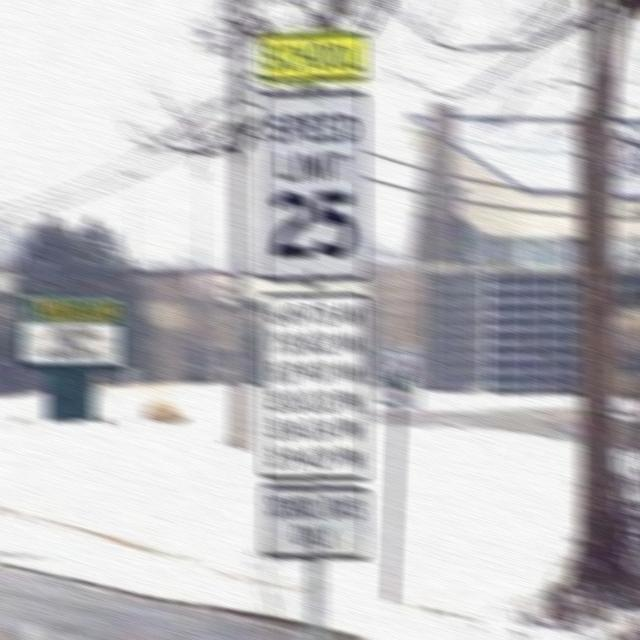speedLimit25: (254, 95, 370, 282)
